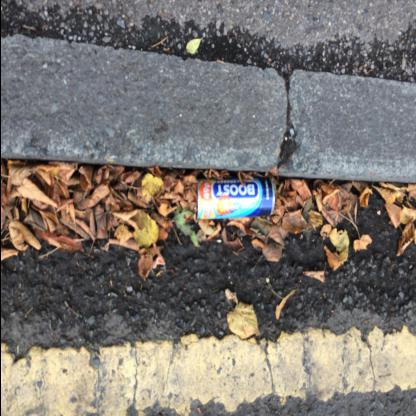metal: (195, 177, 274, 221)
